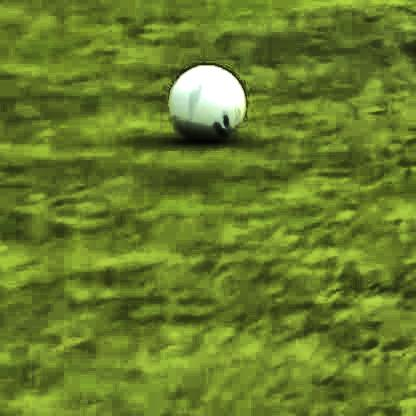golfball: (170, 55, 244, 135)
